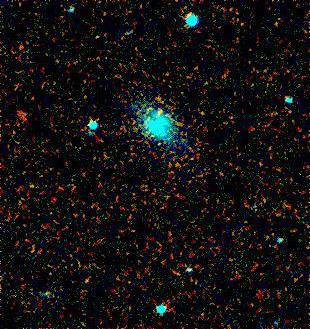star: (143, 100, 173, 130)
